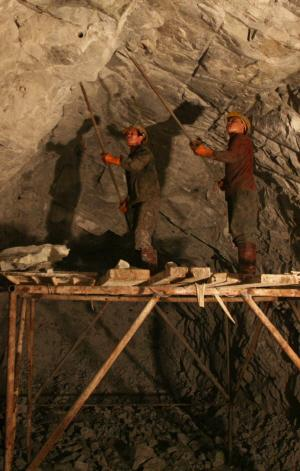boots: (230, 240, 258, 277), (139, 246, 157, 265)
gloves: (100, 152, 121, 166), (188, 137, 202, 151), (118, 197, 128, 214)
hard-hat: (226, 110, 250, 136), (124, 124, 146, 146)
person: (186, 111, 258, 282), (100, 124, 162, 266)
